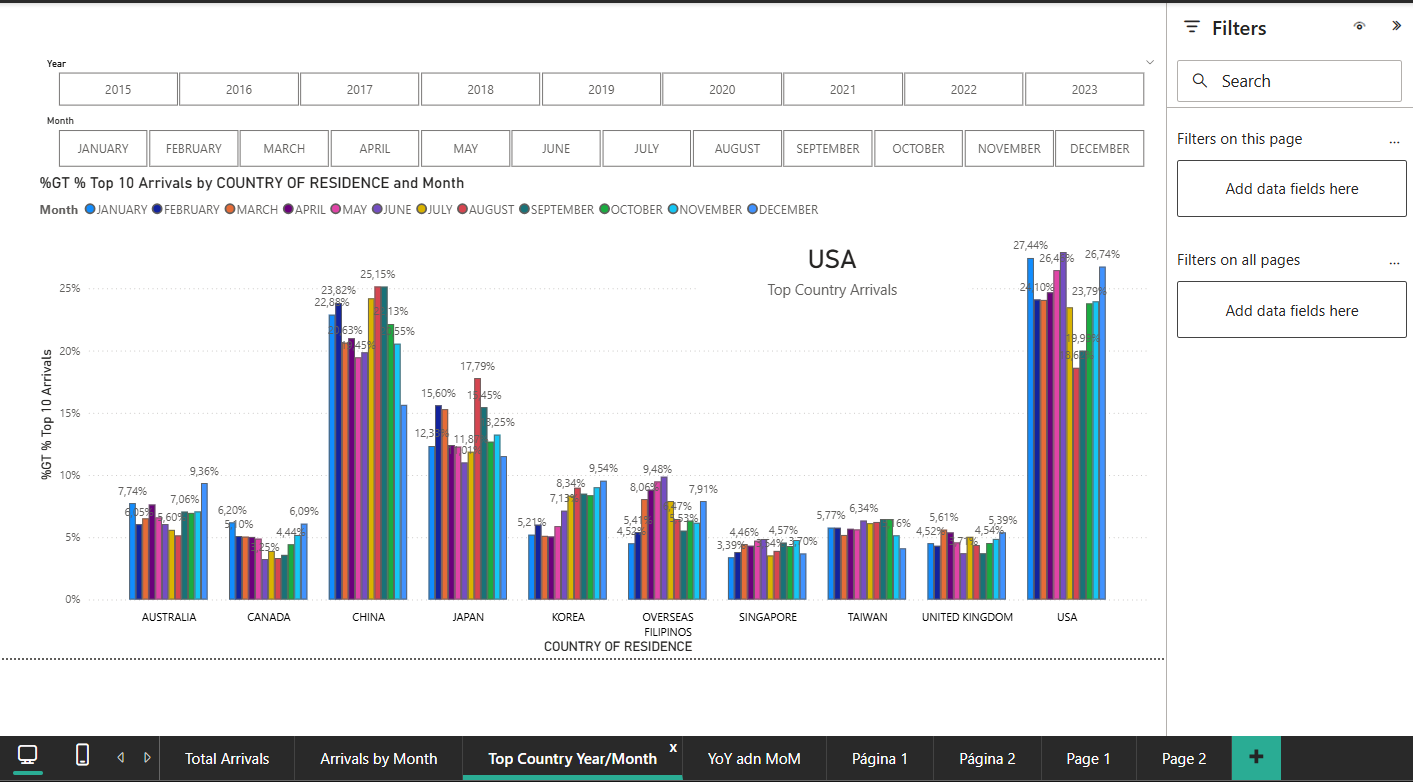

The dashboard page shown, as its layout file describes it:
{"tool":"powerbi","page":{"name":"Top Country Year/Month","canvas":[1280,720],"ordinal":2},"visuals":[{"type":"clusteredColumnChart","fields":{"Category":["df_master_2015_2023.COUNTRY OF RESIDENCE"],"Y":["Measures (2).% Top 10 Arrivals"],"Series":["df_master_2015_2023.Month"]},"box":[38.6,187.2,1226,533],"z":0},{"type":"slicer","fields":{"Values":["df_master_2015_2023.Month"]},"box":[38.6,118.6,1241.7,68.6],"z":1000},{"type":"slicer","fields":{"Values":["Dim_Date.Year"]},"box":[38.6,54.3,1241.7,64.3],"z":2000},{"type":"card","fields":{"Values":["Measures (2).Top Country Arrivals"]},"box":[764.3,241.5,299.1,97.4],"z":3000}]}

Visuals, with their boxes on the page's 1280x720 design canvas (x1, y1, x2, y2). These are canvas units, not pixel positions in the 1413x782 screenshot, which may show the page scaled, cropped or inside an application window:
clusteredColumnChart - df_master_2015_2023.COUNTRY OF RESIDENCE x Measures (2).% Top 10 Arrivals: Rect(39, 187, 1265, 720)
slicer - df_master_2015_2023.Month: Rect(39, 119, 1280, 187)
slicer - Dim_Date.Year: Rect(39, 54, 1280, 119)
card - Measures (2).Top Country Arrivals: Rect(764, 242, 1063, 339)
